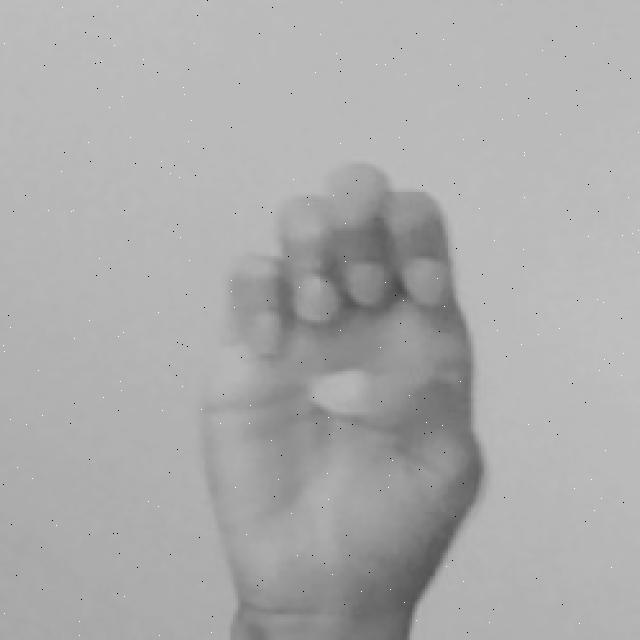E: (200, 161, 487, 640)
